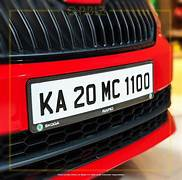number_plate: (31, 66, 159, 118)
